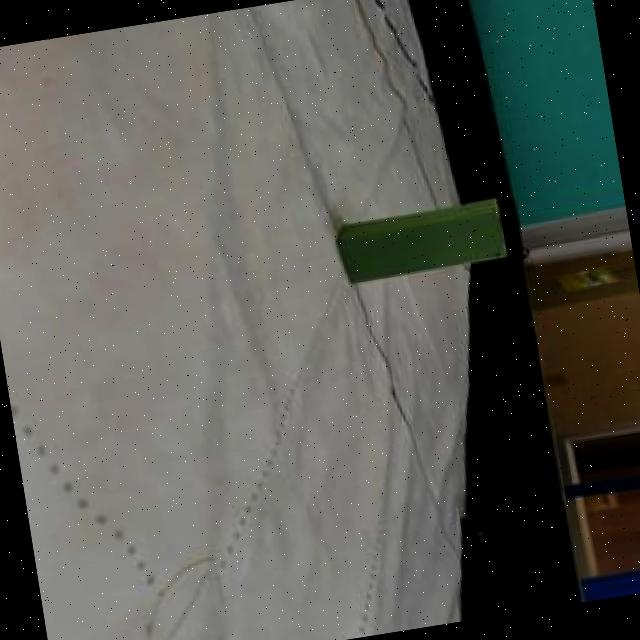greenbox: (334, 196, 510, 286)
